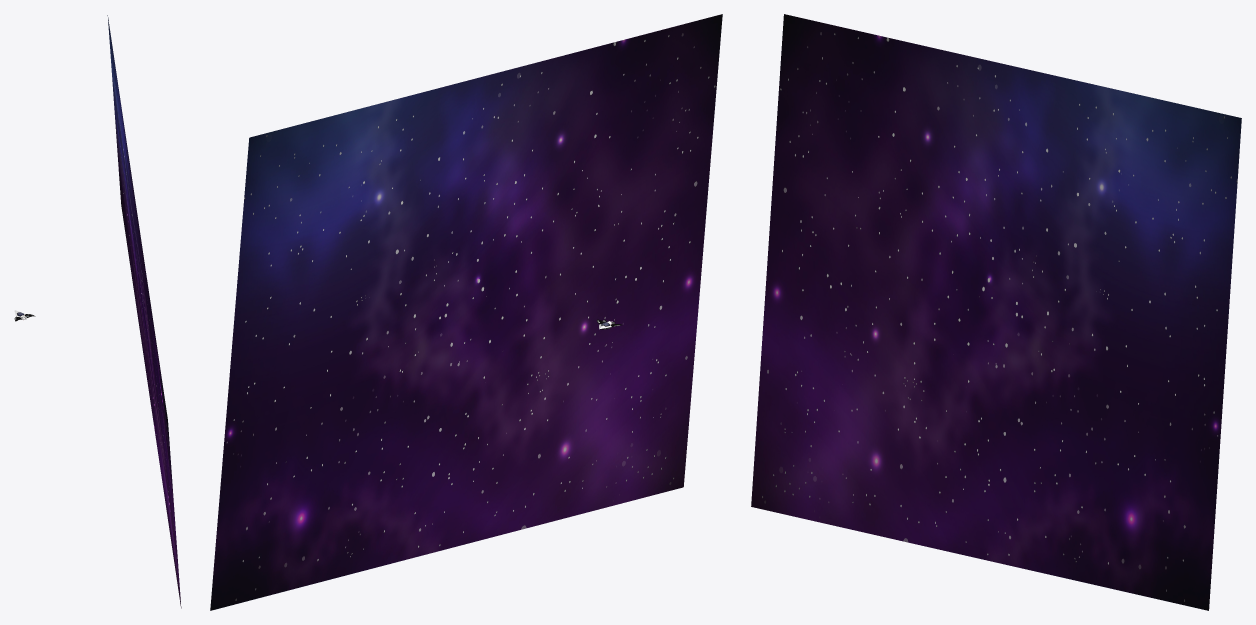
Rendered from Nave enemiga.fbx.
3 views of the same model, side by side, from view 1: azimuth 30°, elevation 25°; view 2: azimuth 150°, elevation 25°; view 3: azimuth 270°, elevation 25° (orthographic). The views are drawn at different scales.
Visible parts, largest first — view 1: Plane; view 2: Plane; view 3: Plane.
Boxes of the visible parts, x1=… form: Plane: x1=107, y1=15, x2=181, y2=608; Plane: x1=210, y1=14, x2=722, y2=610; Plane: x1=751, y1=14, x2=1241, y2=610.
Bounding box in the file's own units: 14414 × 22927 × 21832.
